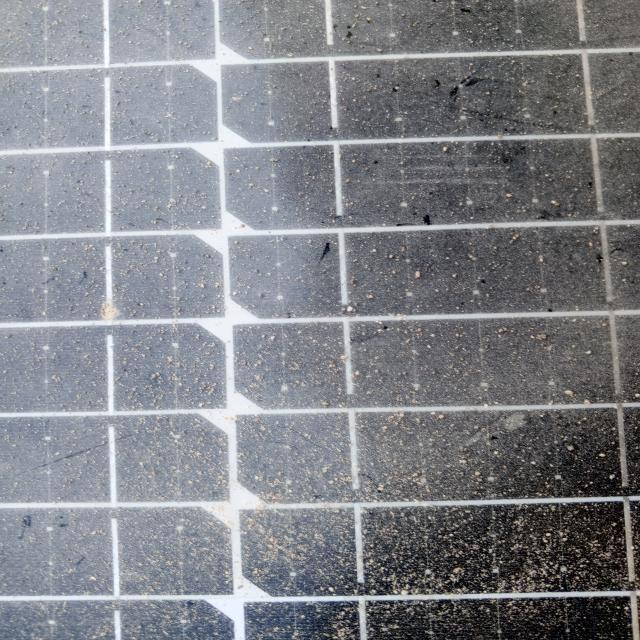Anomaly Solar Panel: (3, 2, 636, 636)
Surface Contaminant: (27, 14, 635, 631)
